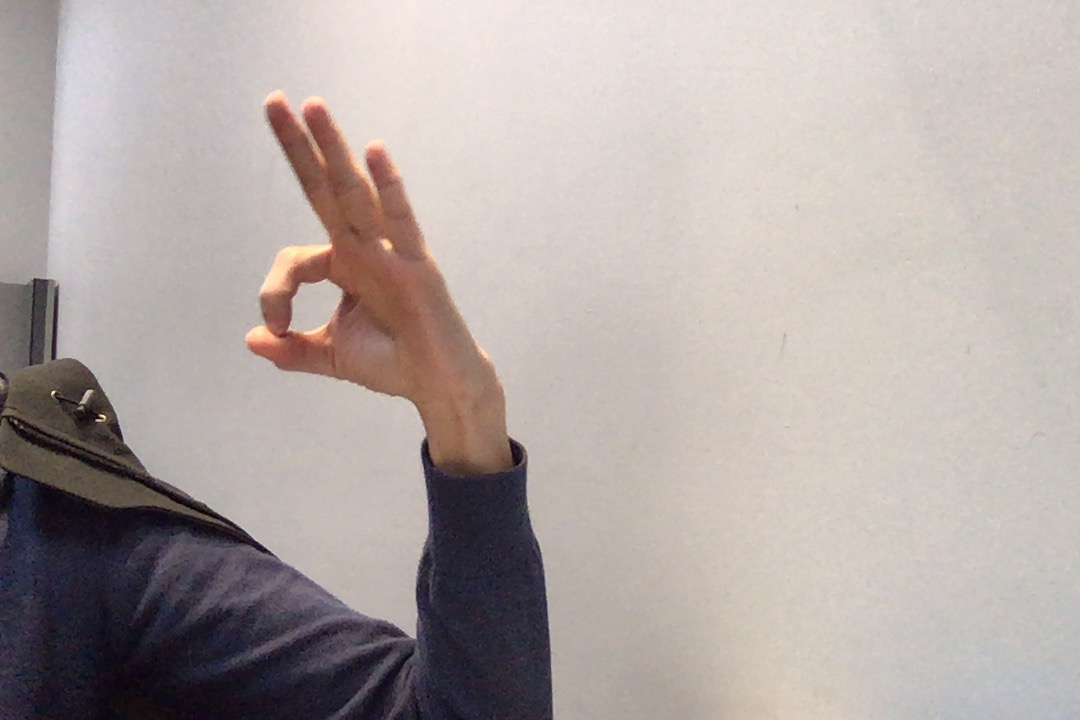oksign: (228, 81, 463, 406)
